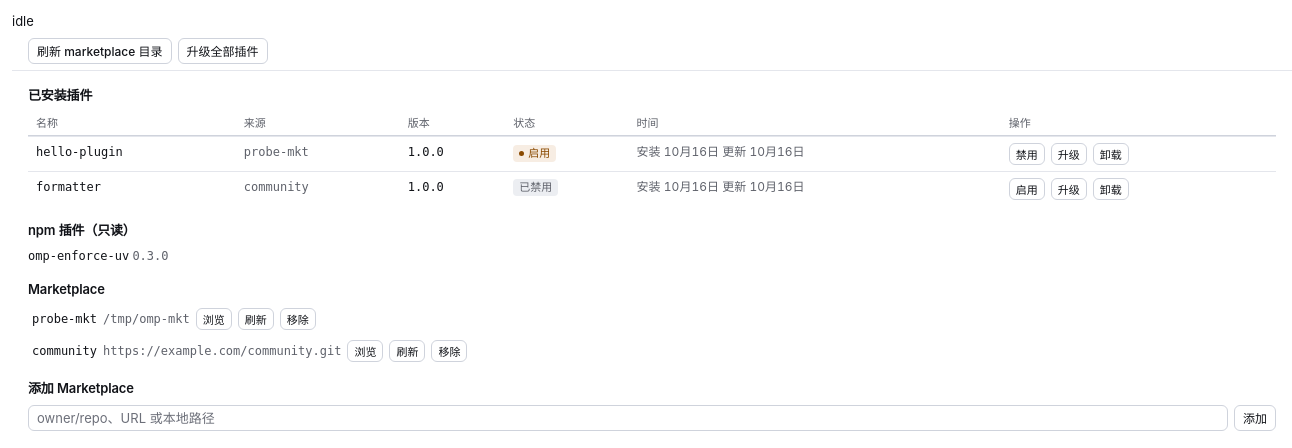
Test: PluginsPanel（有状态 mock） › 禁用再启用往返，徽章同步更新
What coordinates should you click on to do the following:
click the button with aria-label "禁用 hello-plugin@probe-mkt"
I would click on:
 (1027, 154)
Its box is [1009,143,1045,165].
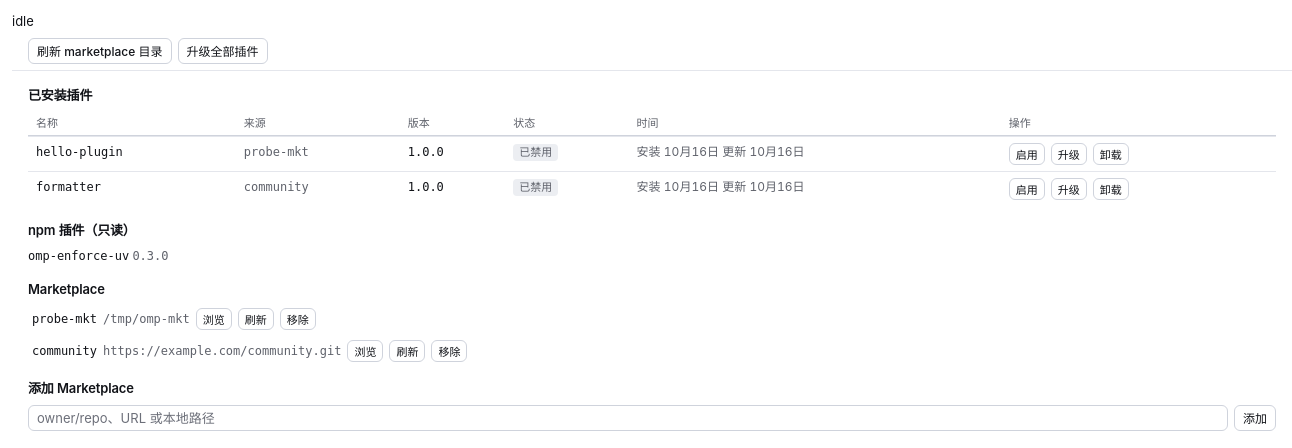
Expected: the button with aria-label "启用 hello-plugin@probe-mkt" is shown
Expected: the text "已禁用" in the row of "hello-plugin" is shown, [519,145,552,159]
What coordinates should you click on to do the following:
click the button with aria-label "启用 hello-plugin@probe-mkt"
I would click on:
 (1027, 154)
Its box is [1009,143,1045,165].
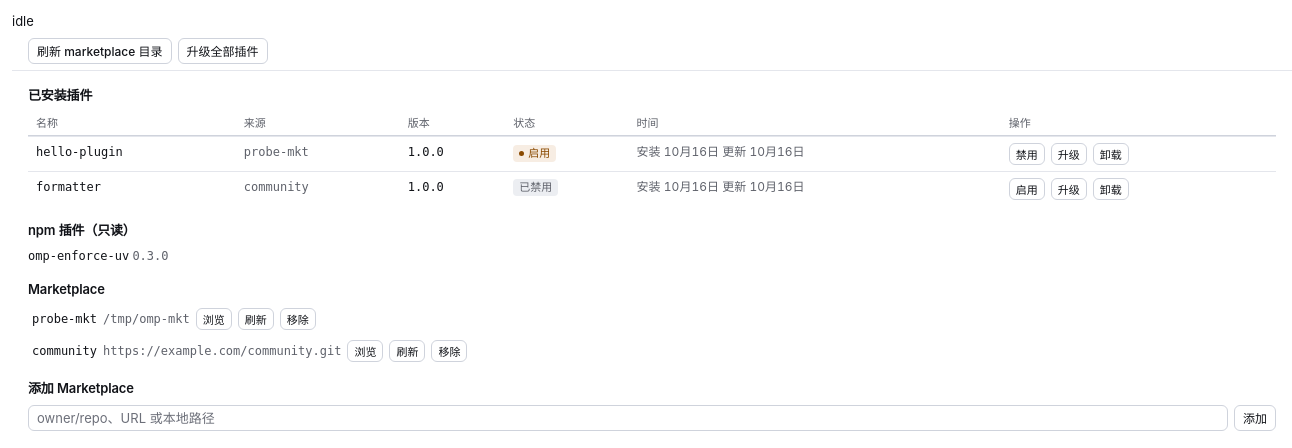
Expected: the text "启用" is shown, [513,145,556,162]
